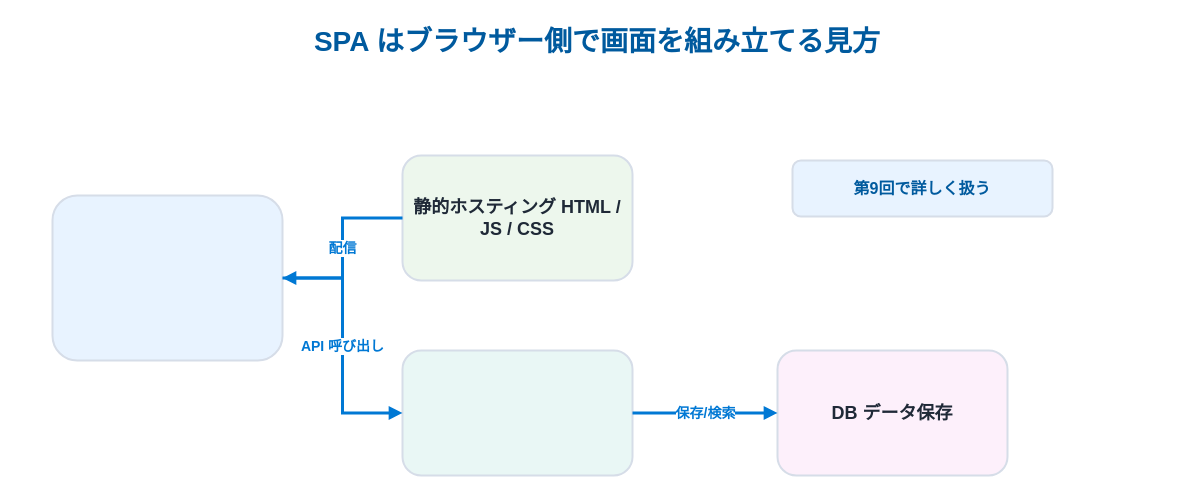
Image size: 1194x493. Some labels were removed from this diagram. The box of each missing label's shape, as (x1, y1, x2, y2) in pixels:
API 動的処理: (401, 349, 633, 476)
ブラウザー SPA 画面遷移の多くを処理: (51, 194, 283, 361)
